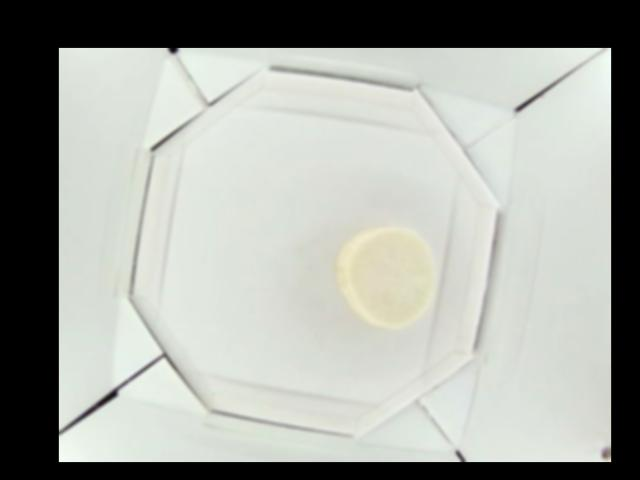Mooli: (335, 228, 436, 326)
